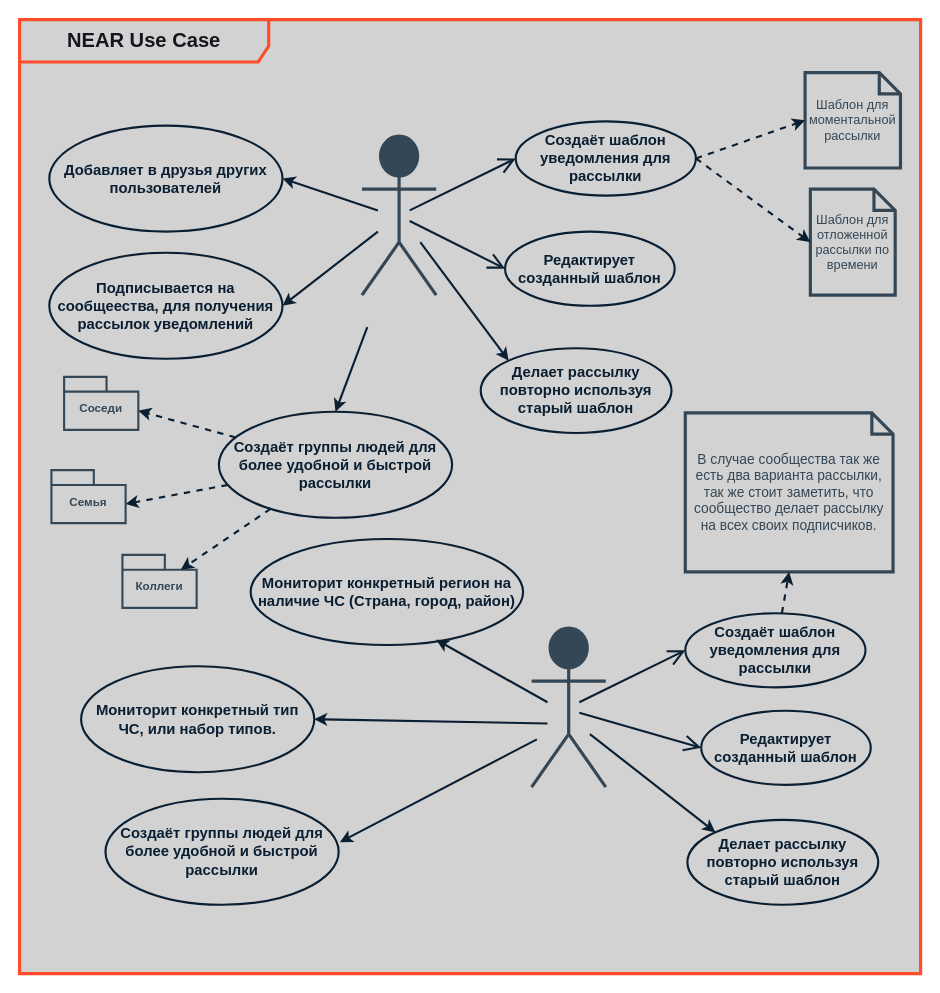
The diagram is 940 pixels wide and 993 high, and some of its shapes have lost their labels. Here are the shapes that lost their labels. From the top down, the centre of each, then its label:
the point at 398,215: Пользователь
the point at 568,707: Сообщество
